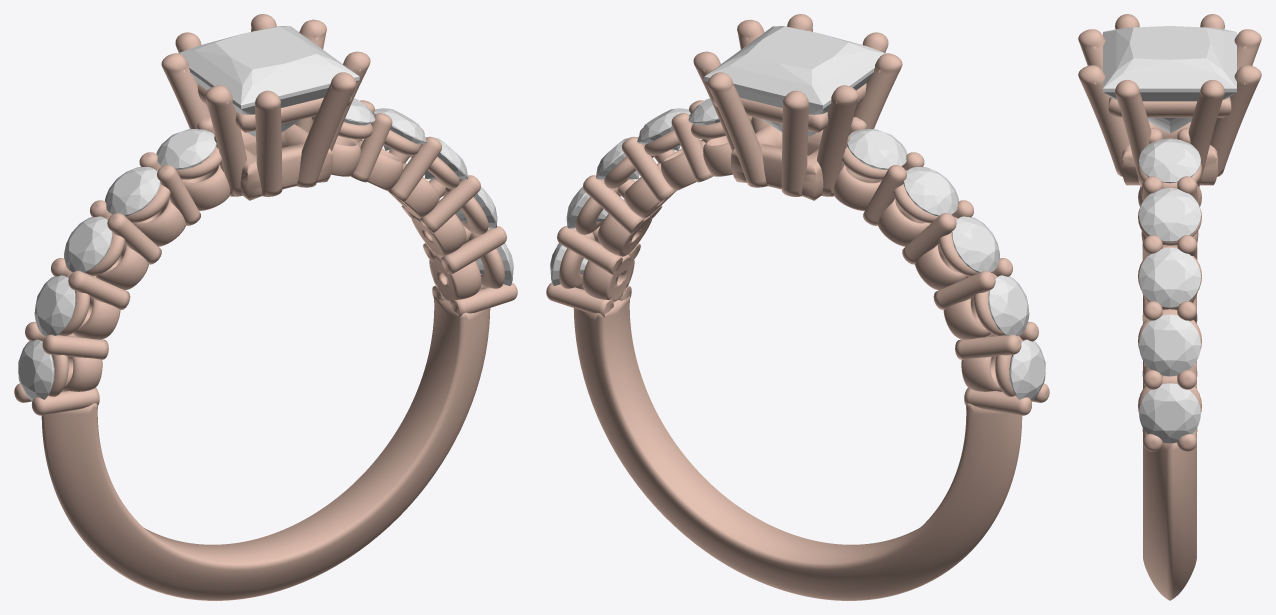
File: diamond-princess-rosegold-8prong-knifeedge-11stone.glb
3 views of the same model, side by side, from view 1: azimuth 30°, elevation 25°; view 2: azimuth 150°, elevation 25°; view 3: azimuth 270°, elevation 25° (orthographic). The views are drawn at different scales.
Parts seen in each view (by area): view 1: metal, stone, side.002, side.003, side.001, side.004, side, side.006, side.007; view 2: metal, stone, side.002, side.003, side.001, side.004, side, side.006, side.007; view 3: metal, stone, side.008, side.007, side.009, side.006, side.005.
Part boxes in pixels (bbox=[...]): metal: bbox=[14, 14, 517, 600]; stone: bbox=[177, 26, 359, 136]; side.002: bbox=[64, 216, 112, 272]; side.003: bbox=[105, 167, 160, 216]; side.001: bbox=[34, 275, 75, 336]; side.004: bbox=[156, 129, 216, 169]; side: bbox=[18, 339, 54, 400]; side.006: bbox=[373, 108, 426, 150]; side.007: bbox=[424, 137, 467, 179]; metal: bbox=[546, 14, 1049, 600]; stone: bbox=[704, 26, 886, 136]; side.002: bbox=[951, 216, 999, 272]; side.003: bbox=[903, 167, 958, 216]; side.001: bbox=[988, 275, 1029, 336]; side.004: bbox=[847, 129, 907, 169]; side: bbox=[1009, 339, 1045, 400]; side.006: bbox=[637, 108, 690, 150]; side.007: bbox=[596, 137, 639, 179]; metal: bbox=[1078, 14, 1261, 600]; stone: bbox=[1103, 26, 1236, 133]; side.008: bbox=[1139, 314, 1200, 376]; side.007: bbox=[1139, 247, 1200, 307]; side.009: bbox=[1139, 383, 1200, 443]; side.006: bbox=[1139, 188, 1200, 241]; side.005: bbox=[1139, 138, 1200, 183].
Bounding box in the file's own units: 22.05 × 23.85 × 7.42.
